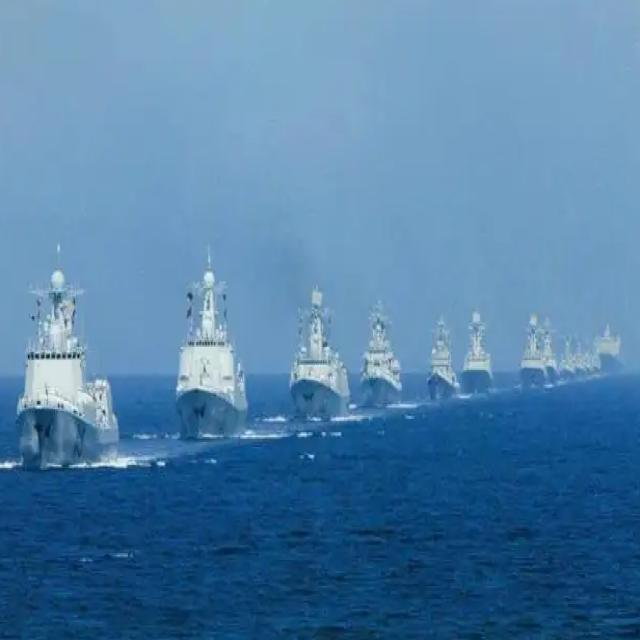navalvessels: (18, 257, 136, 442), (177, 248, 250, 451), (290, 281, 353, 418), (355, 300, 403, 400), (452, 313, 496, 399), (418, 319, 457, 396), (519, 324, 548, 389), (597, 322, 634, 359)
